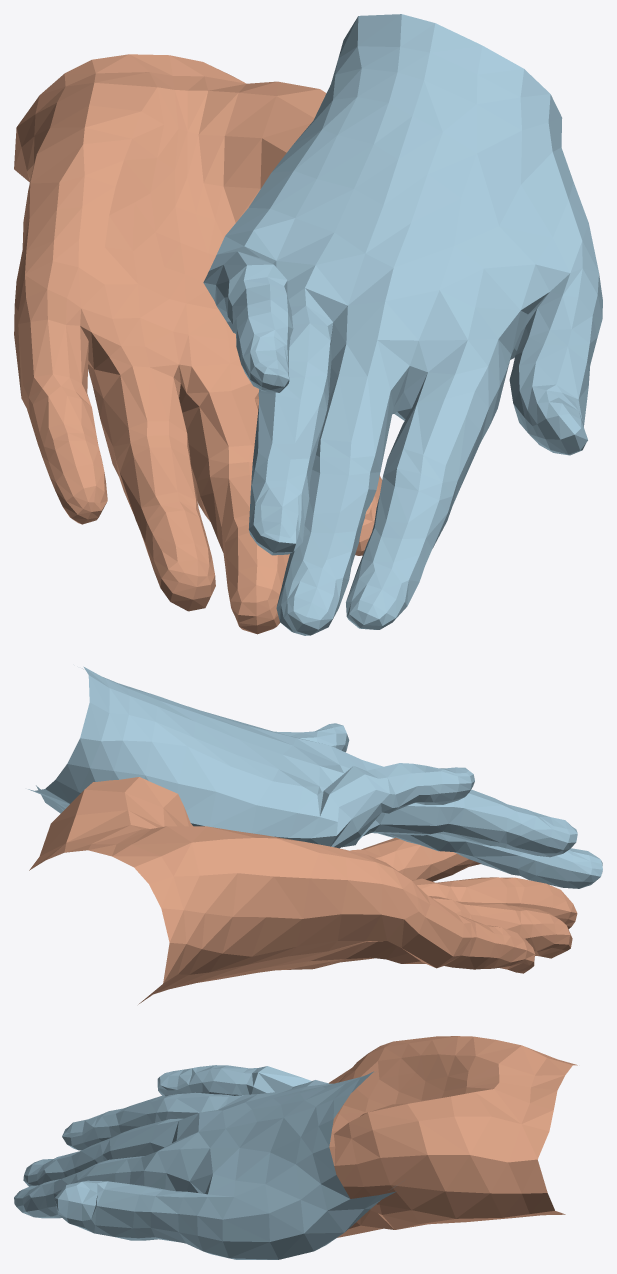
Rendered from frame_010.glb.
3 renders of one model, top to bottom at view 1: azimuth 30°, elevation 25°; view 2: azimuth 150°, elevation 25°; view 3: azimuth 270°, elevation 25°, orthographic. The views are drawn at different scales.
Visible parts, largest first — view 1: world; view 2: world; view 3: world.
Part boxes in pixels (bbox=[...]): world: bbox=[14, 14, 602, 635]; world: bbox=[28, 666, 602, 1004]; world: bbox=[14, 1036, 577, 1259].
Size of the model in its own units: 0.1433 by 0.0924 by 0.1861.
